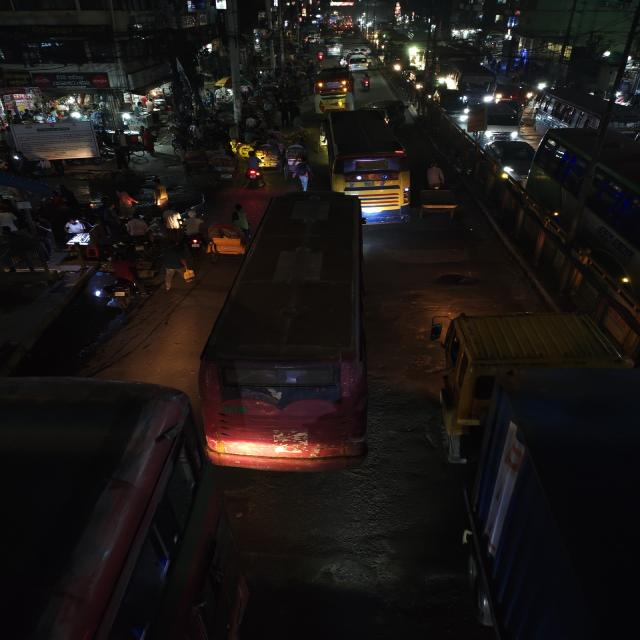bus: (0, 382, 205, 640), (200, 194, 373, 480), (542, 132, 640, 308), (318, 109, 411, 226), (532, 88, 640, 140), (450, 61, 498, 104), (314, 68, 355, 109)
car: (484, 138, 536, 184), (481, 100, 526, 140), (430, 87, 472, 121), (363, 98, 408, 124)
motorcycle: (103, 257, 144, 310), (120, 215, 156, 249), (241, 152, 267, 188), (358, 73, 373, 92)
pedestrian: (294, 162, 313, 190)
rickshaw: (205, 222, 250, 260), (282, 142, 308, 174), (254, 141, 280, 169)
truck: (453, 307, 640, 640), (416, 161, 461, 221)
